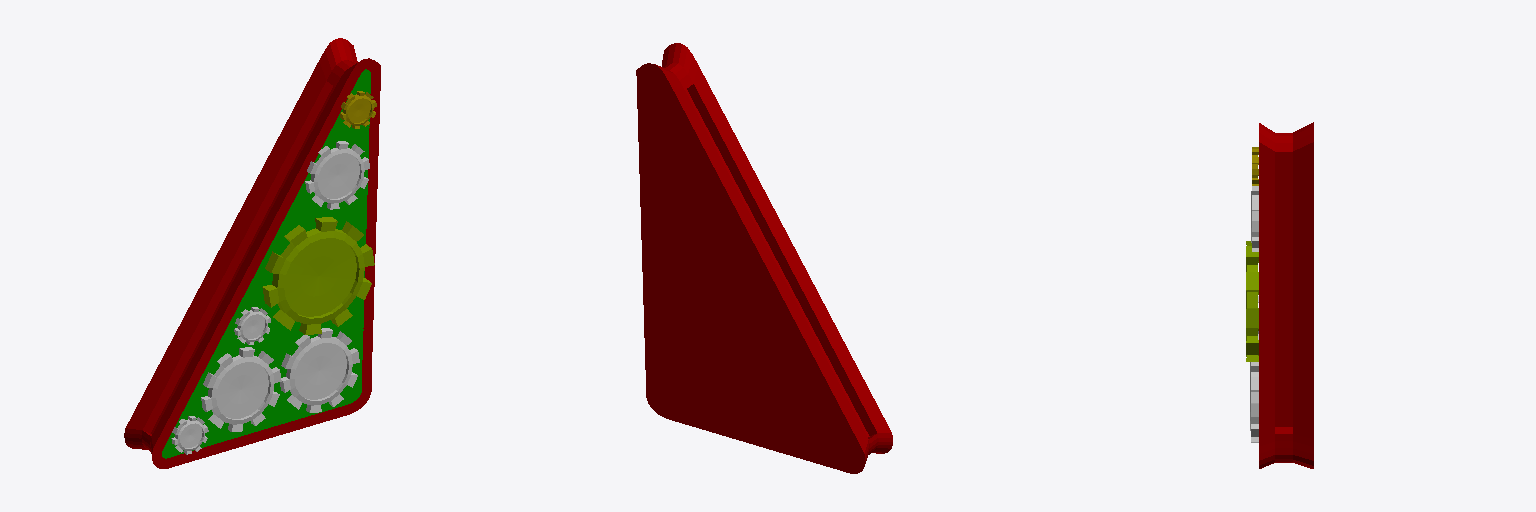
Rendered from Butoir.obj.
3 renders of one model, left to right at view 1: azimuth 30°, elevation 25°; view 2: azimuth 150°, elevation 25°; view 3: azimuth 270°, elevation 25°, orthographic.
Parts seen in each view (by area): view 1: Cube_Cube.002, Cylinder.001_Cylinder.002, Cylinder.003_Cylinder.004, Cylinder.002_Cylinder.003, Cylinder_Cylinder.001, Cylinder.005_Cylinder.006, Cylinder.004_Cylinder.005, Cylinder.006_Cylinder.007; view 2: Cube_Cube.002; view 3: Cube_Cube.002, Cylinder.001_Cylinder.002, Cylinder.002_Cylinder.003.
Boxes of the visible parts, <box> form: Cube_Cube.002: <box>124,38,380,468</box>; Cylinder.001_Cylinder.002: <box>262,217,374,334</box>; Cylinder.003_Cylinder.004: <box>201,347,281,431</box>; Cylinder.002_Cylinder.003: <box>280,328,359,412</box>; Cylinder_Cylinder.001: <box>305,141,369,209</box>; Cylinder.005_Cylinder.006: <box>340,91,376,128</box>; Cylinder.004_Cylinder.005: <box>171,416,208,454</box>; Cylinder.006_Cylinder.007: <box>234,307,270,344</box>; Cube_Cube.002: <box>636,43,892,473</box>; Cube_Cube.002: <box>1259,122,1313,468</box>; Cylinder.001_Cylinder.002: <box>1246,241,1258,361</box>; Cylinder.002_Cylinder.003: <box>1250,362,1258,442</box>.
Bounding box in the file's own units: 48.1 × 72.58 × 12.41.